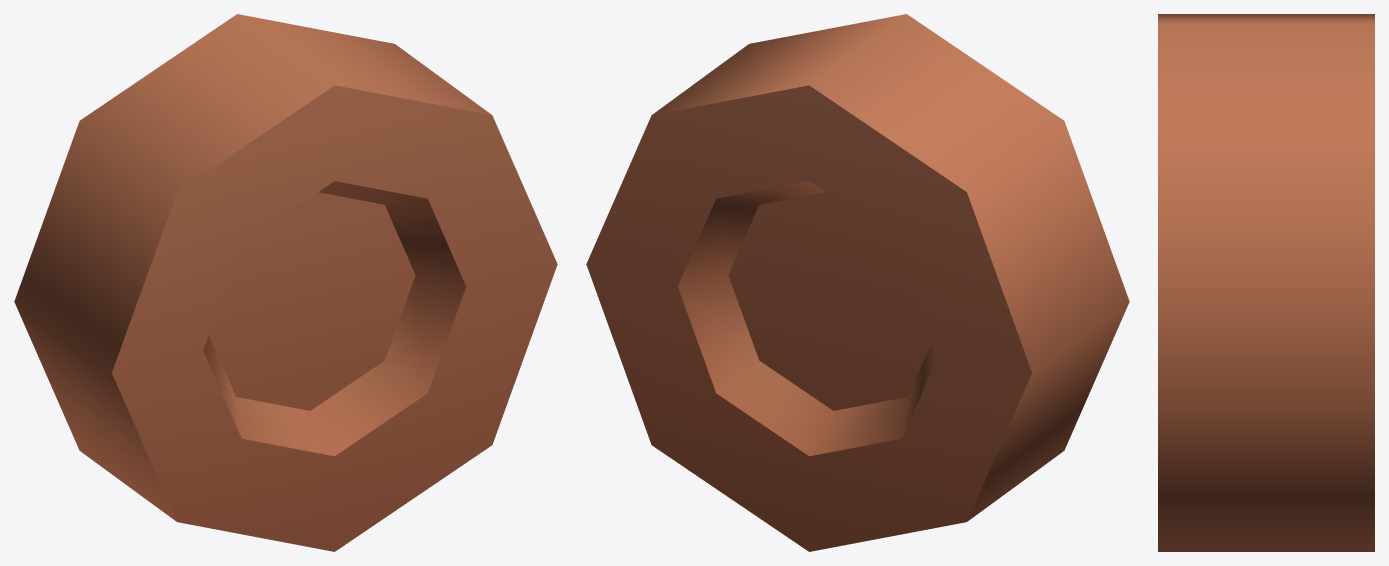
File: item-coin-bronze.glb
The picture shows the model from 3 angles, left to right: view 1: azimuth 30°, elevation 25°; view 2: azimuth 150°, elevation 25°; view 3: azimuth 270°, elevation 25°; orthographic projection. The views are drawn at different scales.
Visible parts, largest first — view 1: item-coin-bronze; view 2: item-coin-bronze; view 3: item-coin-bronze.
Boxes of the visible parts, x1,y1,x2,y2 form: item-coin-bronze: (14, 14, 557, 551); item-coin-bronze: (586, 14, 1129, 551); item-coin-bronze: (1158, 14, 1374, 551).
Size of the model in its own units: 0.264 by 0.264 by 0.1.
